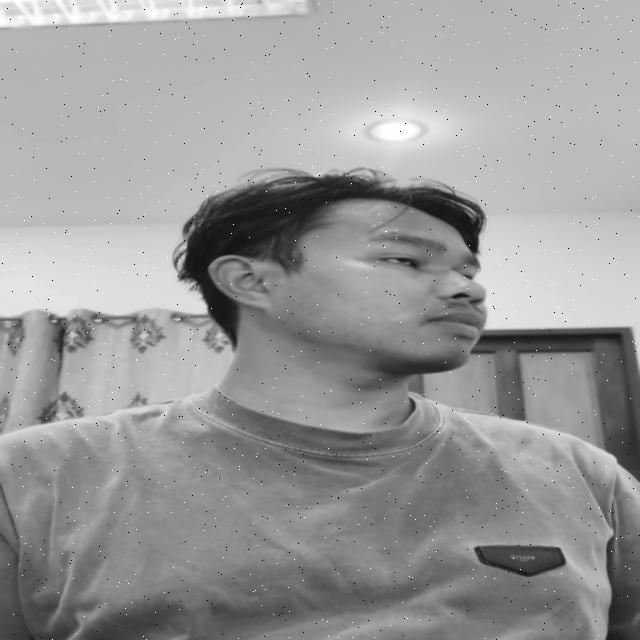ear: (208, 255, 268, 308)
